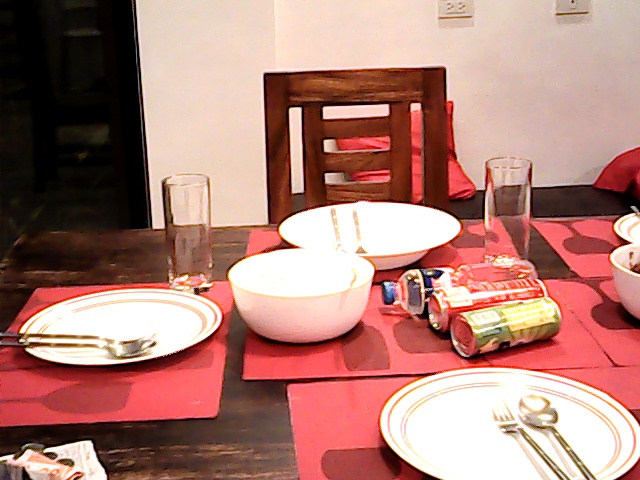Cola: (436, 277, 533, 306)
Pine Juice: (450, 307, 558, 356)
Summit Water: (376, 252, 462, 309)
